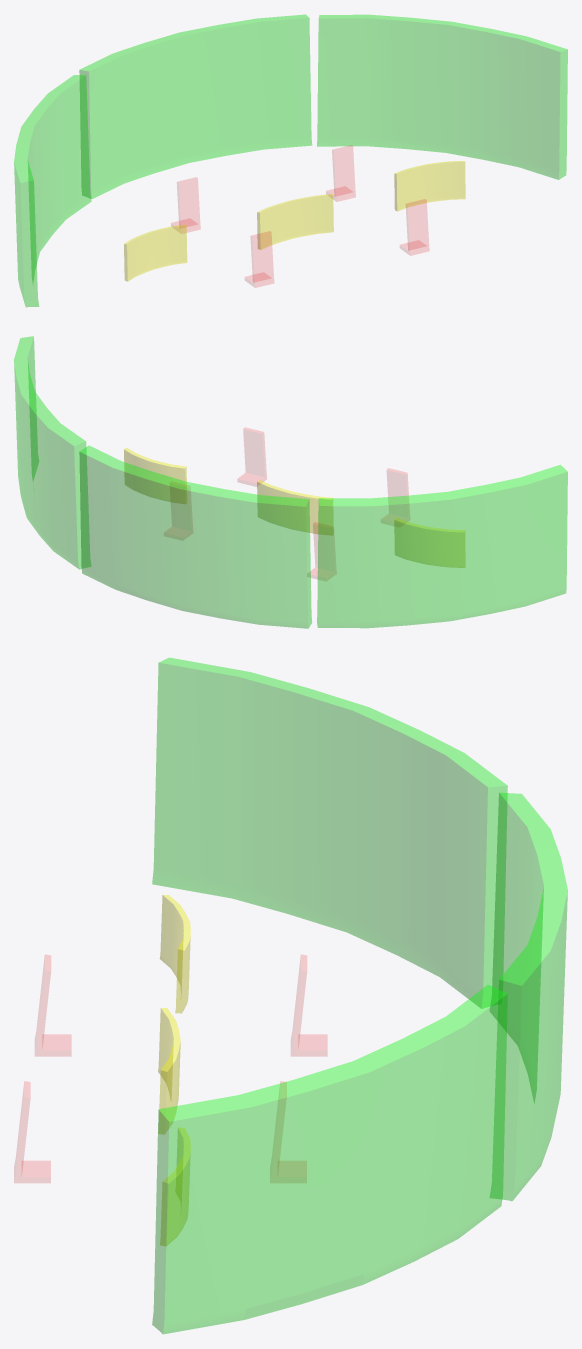
The picture shows the model from 3 angles, top to bottom: view 1: azimuth 30°, elevation 25°; view 2: azimuth 150°, elevation 25°; view 3: azimuth 270°, elevation 25°; orthographic projection. The views are drawn at different scales.
Visible parts, largest first — view 1: Model (×10); view 2: Model (×8); view 3: Model (×9).
Part boxes in pixels (<box>): Model (×10): <box>14,14,567,306</box>; Model (×8): <box>14,336,567,628</box>; Model (×9): <box>14,658,567,1333</box>.
Bounding box in the file's own units: 46.93 × 10.38 × 23.65.
